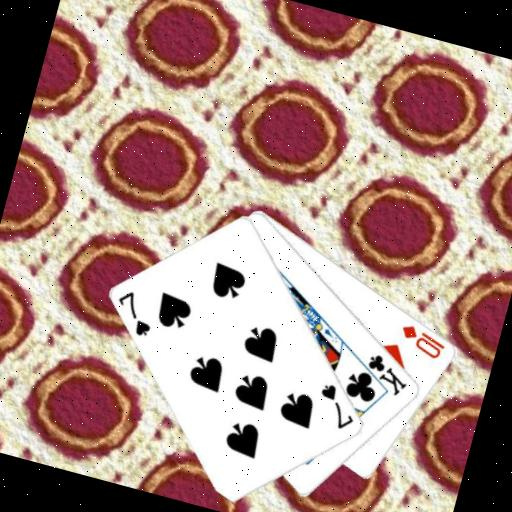10D: (393, 319, 450, 362)
7S: (310, 378, 364, 433), (107, 285, 161, 340)
KC: (349, 346, 415, 400)
